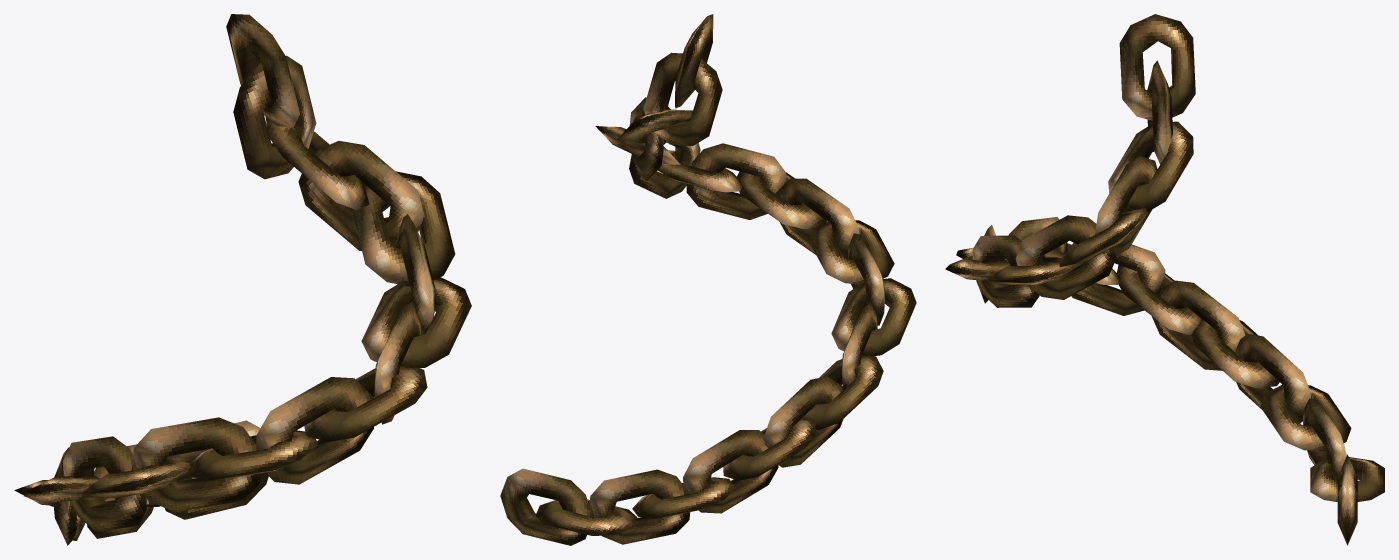
Rendered from LONE_MOUNT_CHAIN.fbx.
3 views of the same model, side by side, from view 1: azimuth 30°, elevation 25°; view 2: azimuth 150°, elevation 25°; view 3: azimuth 270°, elevation 25° (orthographic). The views are drawn at different scales.
Visible parts, largest first — view 1: LONE_MOUNT_CHAIN; view 2: LONE_MOUNT_CHAIN; view 3: LONE_MOUNT_CHAIN.
Boxes of the visible parts, x1,y1,x2,y2 form: LONE_MOUNT_CHAIN: [14, 14, 471, 545]; LONE_MOUNT_CHAIN: [500, 14, 916, 545]; LONE_MOUNT_CHAIN: [945, 14, 1384, 545].
Bounding box in the file's own units: 6163 × 9242 × 7577.
1 material, 1 textured.
